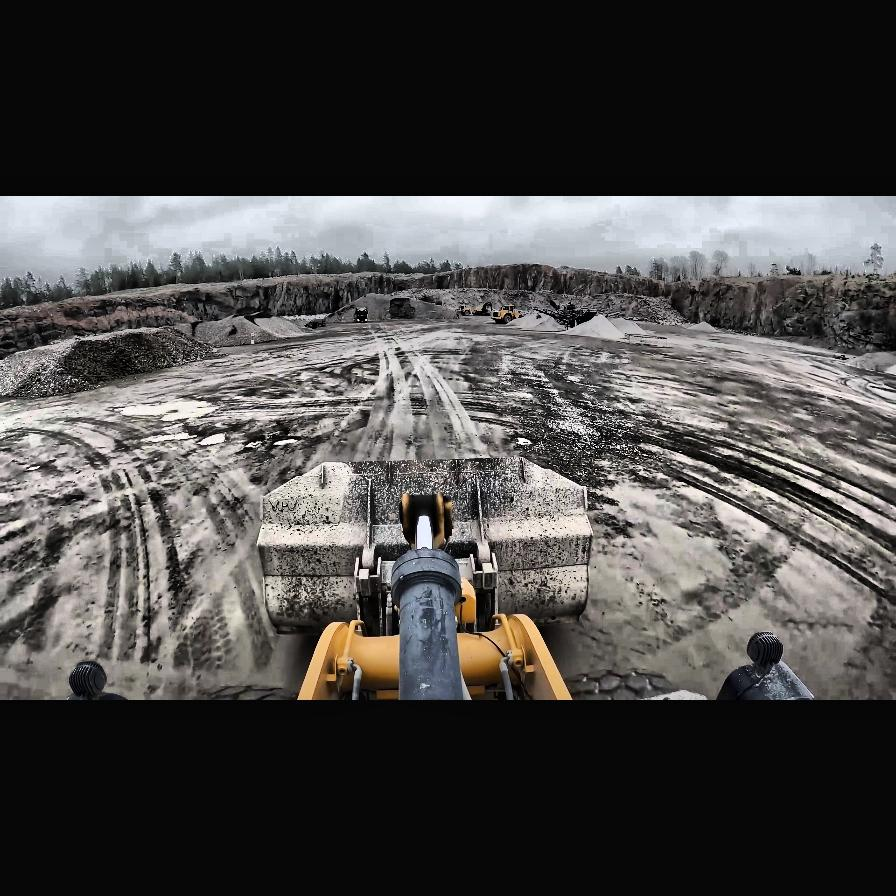anchor: (400, 494, 452, 550)
pile of gravel: (3, 320, 231, 398), (387, 284, 583, 326), (480, 286, 688, 322), (194, 310, 324, 348), (2, 338, 84, 398), (332, 292, 444, 322), (552, 314, 658, 340), (844, 350, 896, 378), (686, 320, 723, 334)
